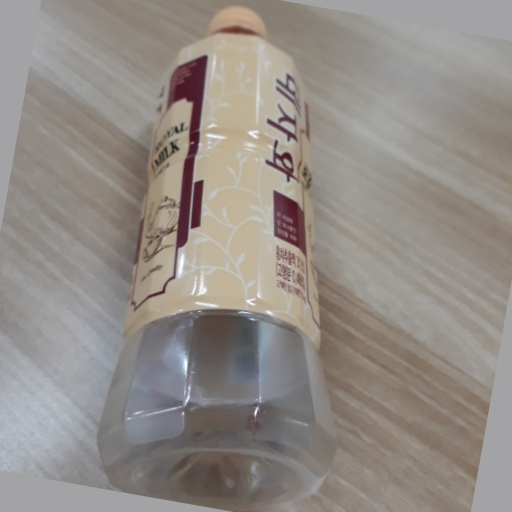Plastic_0: (105, 3, 339, 510)
